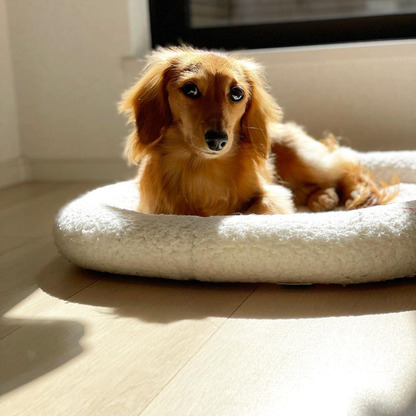dachshund: (108, 37, 395, 235)
